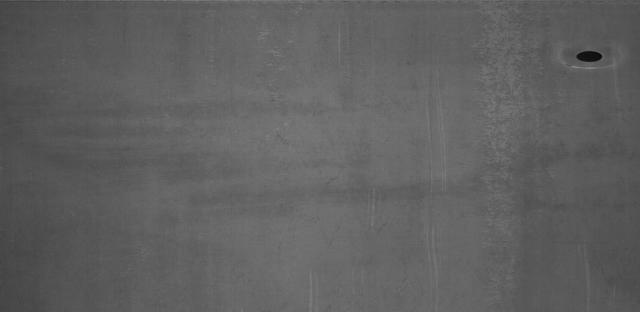punching_hole: (573, 46, 608, 64)
